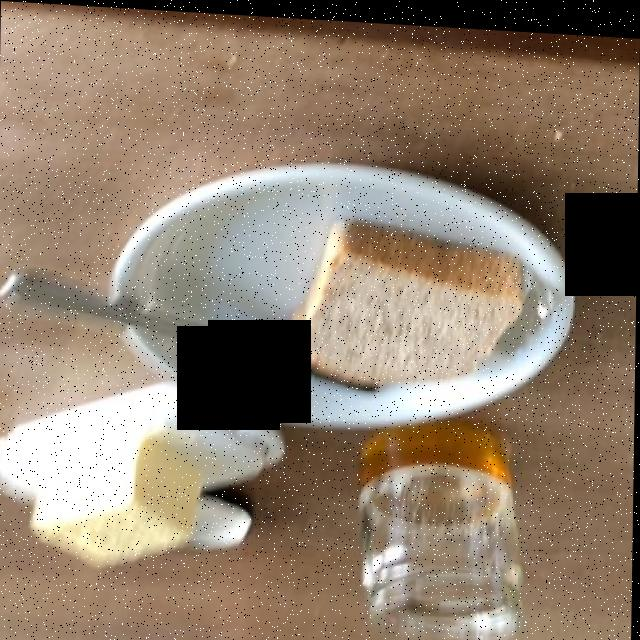bread-wholemeal-toast: (292, 219, 523, 382)
butter: (29, 434, 214, 572)
honey: (355, 424, 514, 521)
